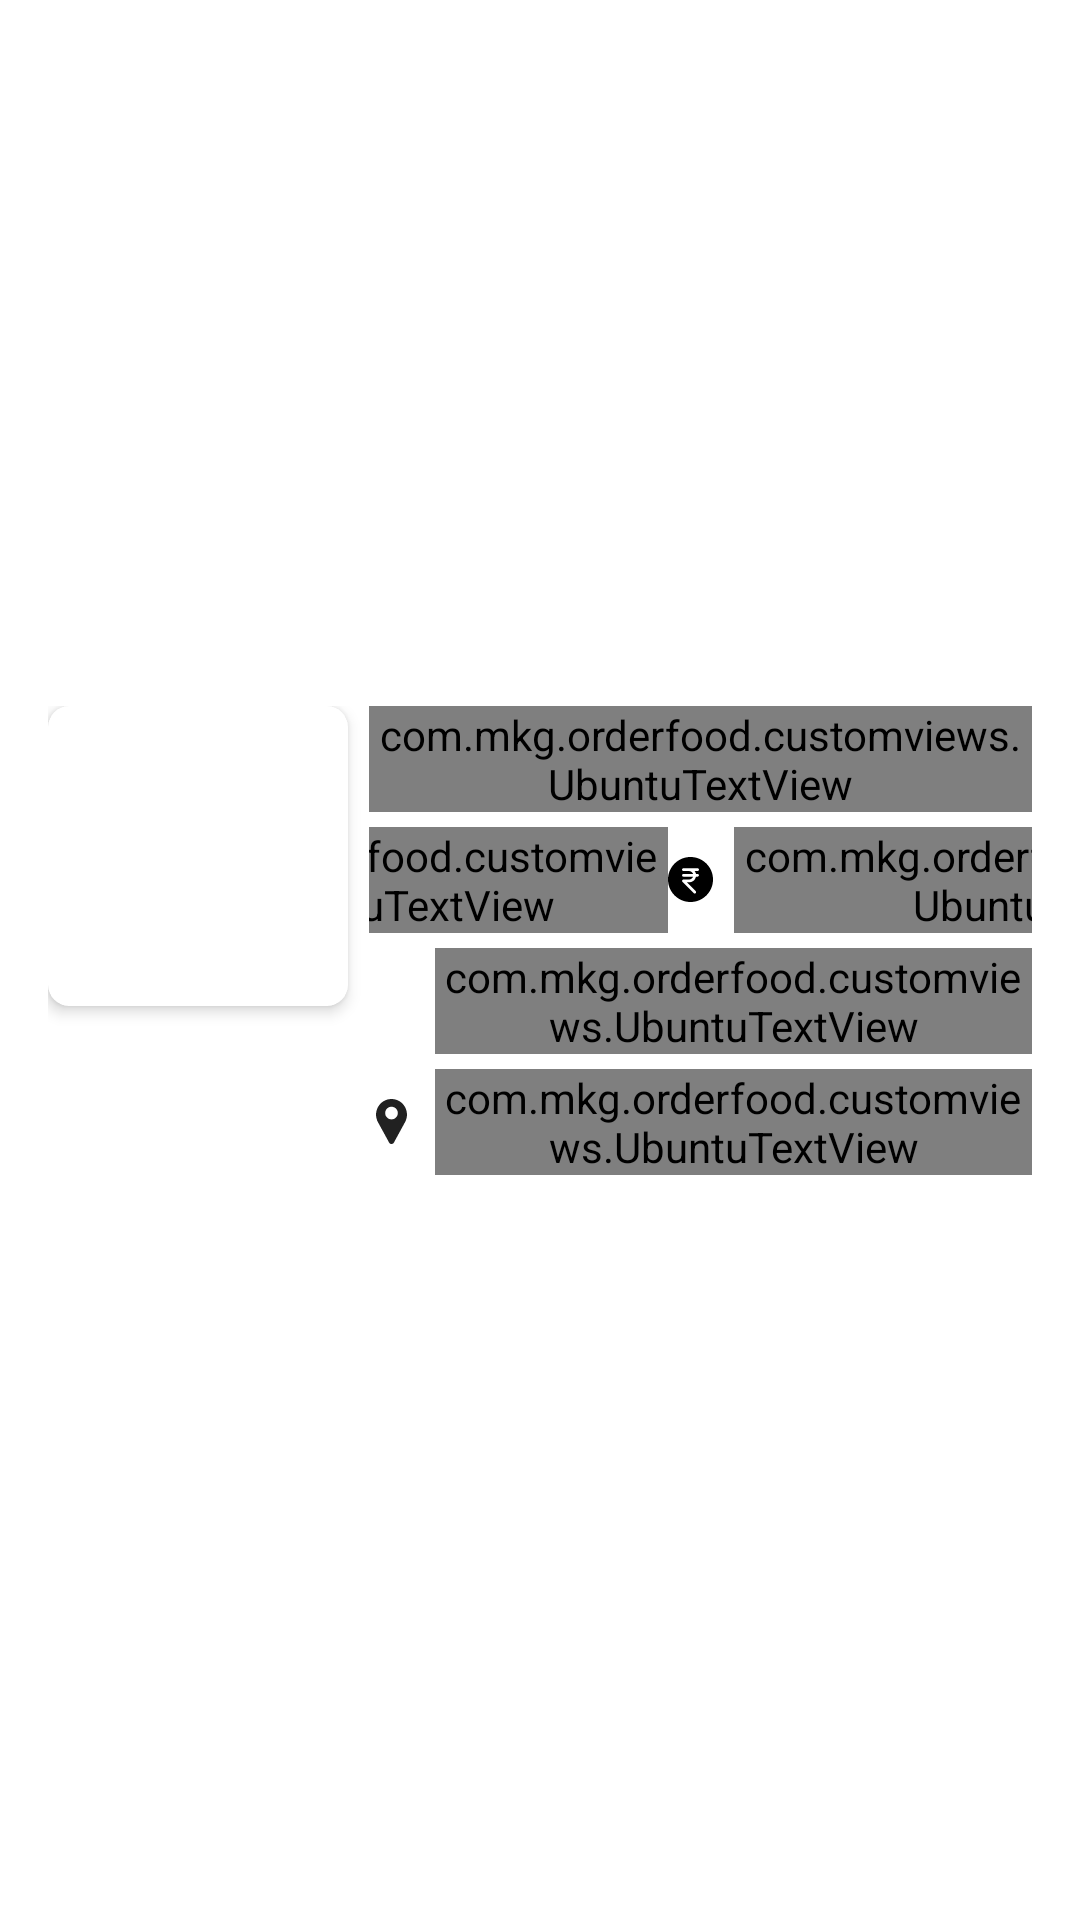

Icon click points for this 1080px×1920px phone screenshot, format point (x, y):
location: point (391, 1121)
rupee: point (690, 879)
